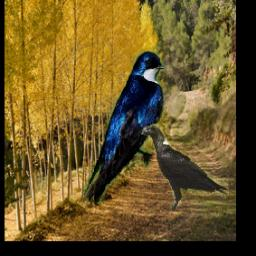Crow: (140, 124, 229, 213)
Swallow: (83, 50, 166, 205)
